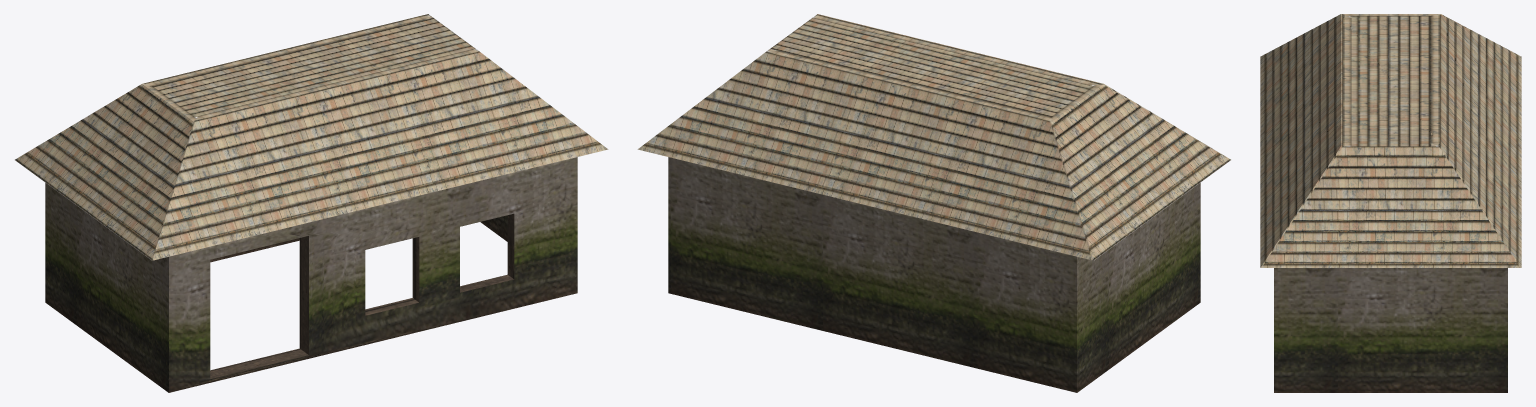
Rendered from CasaTrianglesTex.obj.
The picture shows the model from 3 angles, left to right: view 1: azimuth 30°, elevation 25°; view 2: azimuth 150°, elevation 25°; view 3: azimuth 270°, elevation 25°; orthographic projection. The views are drawn at different scales.
Visible parts, largest first — view 1: Box001; view 2: Box001; view 3: Box001.
Part boxes in pixels (x1=…): Box001: x1=15, y1=14, x2=608, y2=392; Box001: x1=637, y1=14, x2=1230, y2=392; Box001: x1=1260, y1=14, x2=1521, y2=392.
Bounding box in the file's own units: 23.4 × 11.26 × 12.24.
